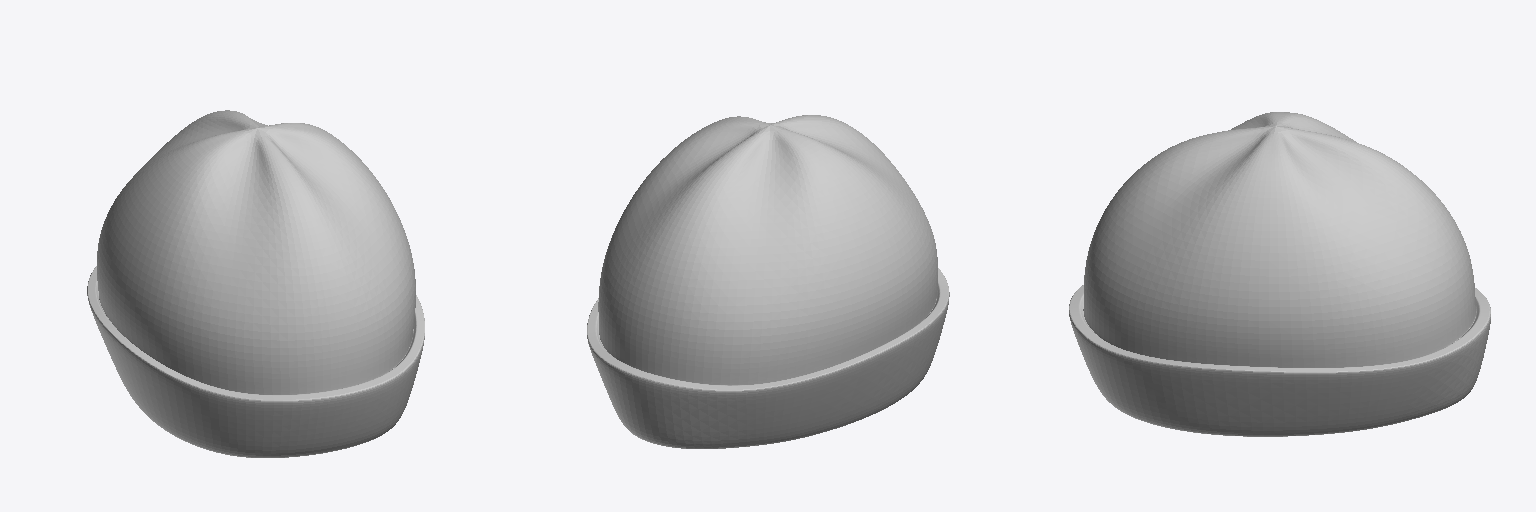
The model's file is winterCap.obj.
The picture shows the model from 3 angles: view 1: azimuth 30°, elevation 25°; view 2: azimuth 150°, elevation 25°; view 3: azimuth 270°, elevation 25°; orthographic projection.
Visible parts, largest first — view 1: 10156_WinterKnitCap_v1-L3; view 2: 10156_WinterKnitCap_v1-L3; view 3: 10156_WinterKnitCap_v1-L3.
Boxes of the visible parts, box(x1,y1,x2,y2) form: 10156_WinterKnitCap_v1-L3: box(87, 110, 424, 457); 10156_WinterKnitCap_v1-L3: box(587, 115, 949, 448); 10156_WinterKnitCap_v1-L3: box(1069, 112, 1490, 436).
Bounding box in the file's own units: 40.02 × 35.36 × 52.31.